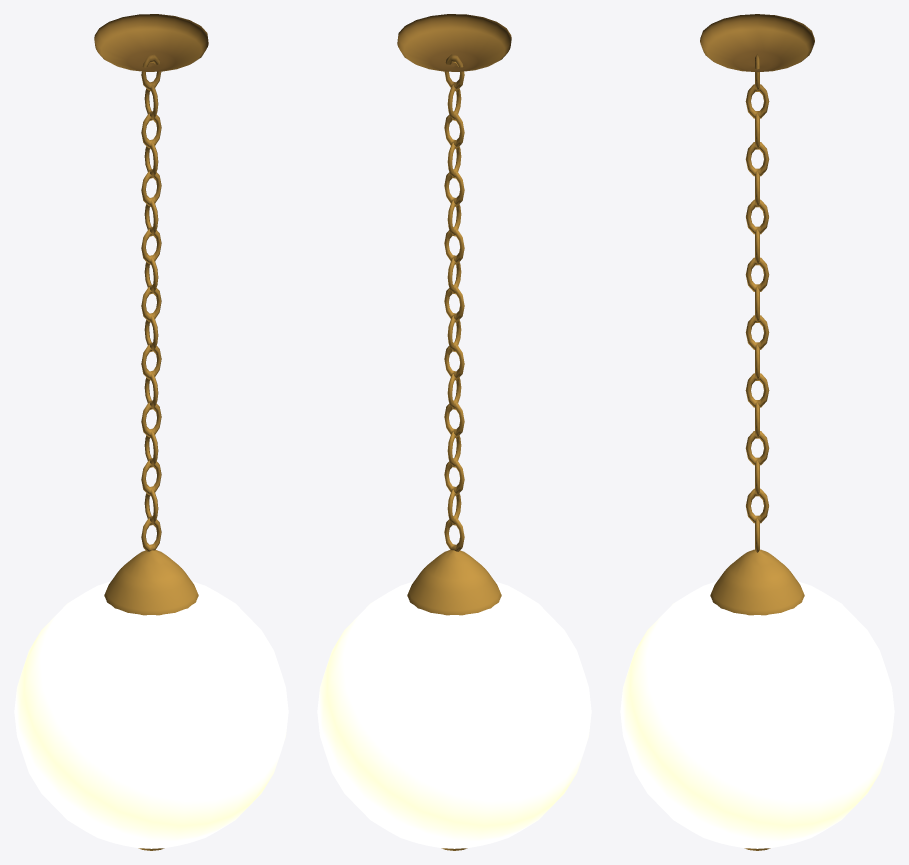
Rendered from lamp_globe_pendant__002.glb.
The picture shows the model from 3 angles, left to right: view 1: azimuth 30°, elevation 25°; view 2: azimuth 150°, elevation 25°; view 3: azimuth 270°, elevation 25°; orthographic projection.
Parts seen in each view (by area): view 1: prop_lamp_globe_pendant, merged_toon_C8963C; view 2: prop_lamp_globe_pendant, merged_toon_C8963C; view 3: prop_lamp_globe_pendant, merged_toon_C8963C.
Part boxes in pixels (bbox=[...]): prop_lamp_globe_pendant: bbox=[14, 581, 288, 848]; merged_toon_C8963C: bbox=[94, 14, 208, 850]; prop_lamp_globe_pendant: bbox=[317, 581, 591, 848]; merged_toon_C8963C: bbox=[397, 14, 511, 850]; prop_lamp_globe_pendant: bbox=[620, 581, 894, 848]; merged_toon_C8963C: bbox=[700, 14, 814, 850].
Size of the model in its own units: 0.42 by 1.36 by 0.42.
